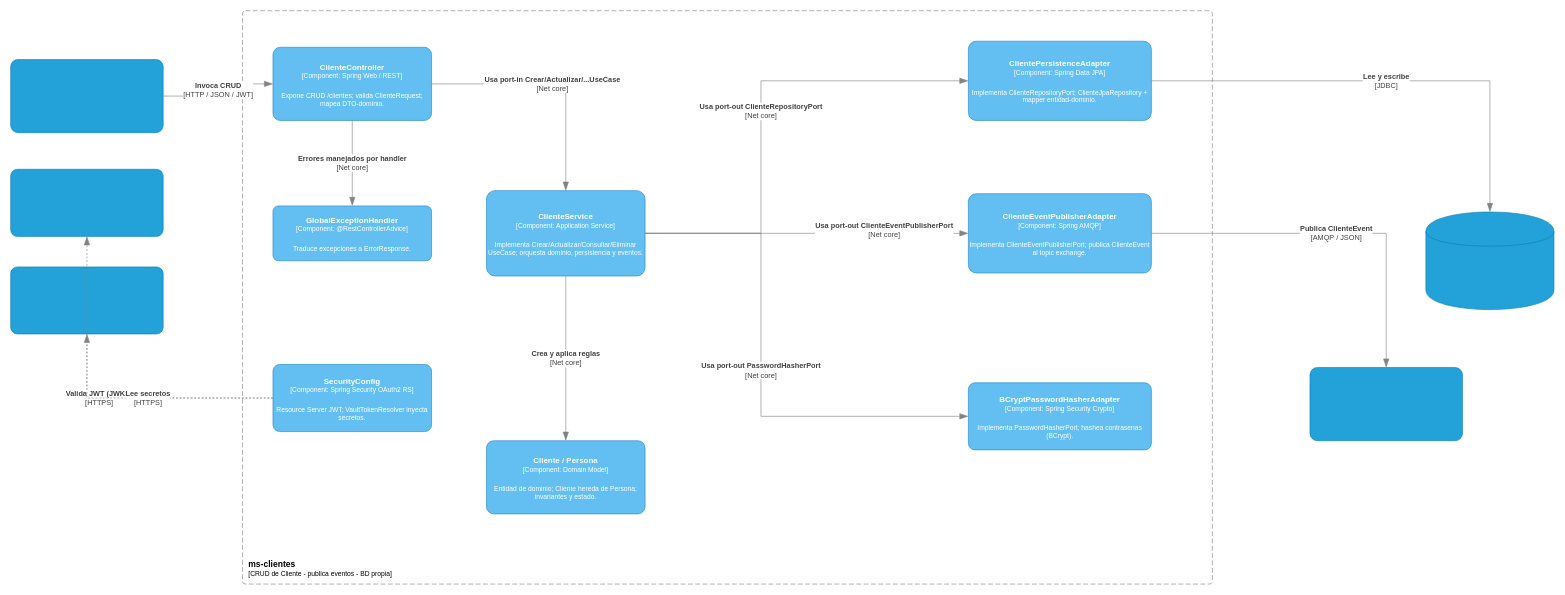
Image size: 1565x595. Some labels were removed from this diagram. The shapes that lost their labels are listed below. From the top down, each one's centre as x and y in pixels, then its label:
At pixel 86 96: "API Gateway [Container: Spring Cloud Gateway] Enruta /clientes con JWT.".
At pixel 86 202: "Broker de Identidad [Container: Keycloak] Emite/valida JWT.".
At pixel 1489 260: "devsu_clientes [Container: PostgreSQL] persona, cliente.".
At pixel 86 300: "Gestor de Secretos [Container: Vault] Credenciales de BD.".
At pixel 1385 404: "Message Broker [Container: RabbitMQ] Exchange de eventos.".
